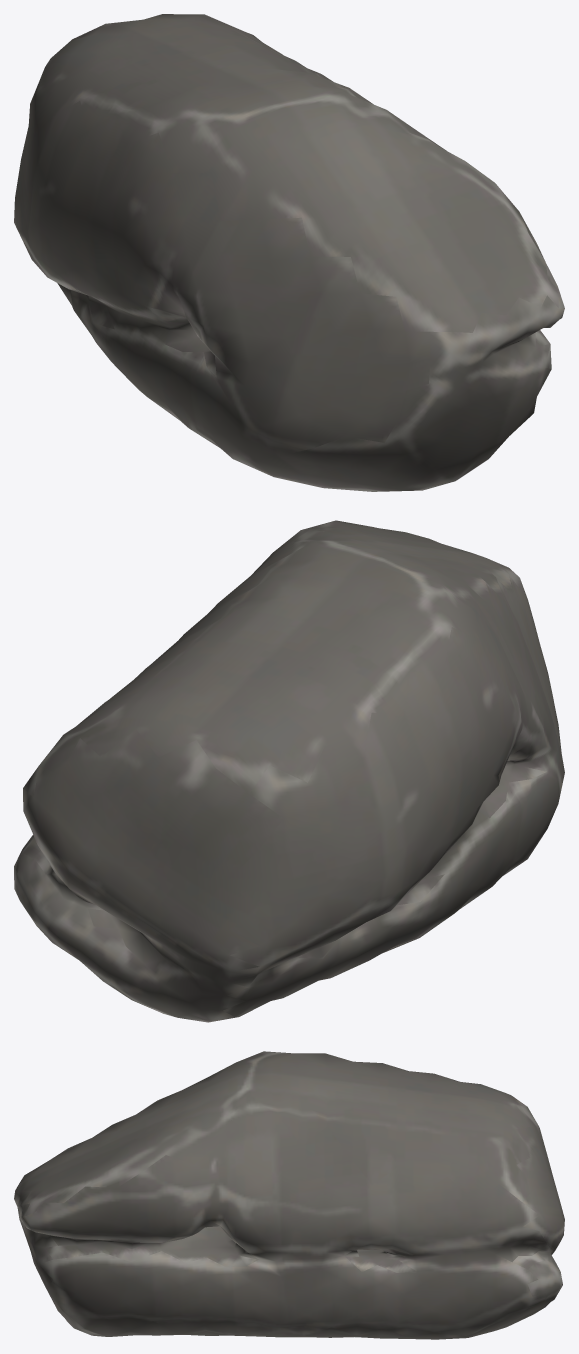
File: SM_rock_small_05.glb
3 views of the same model, one above another, from view 1: azimuth 30°, elevation 25°; view 2: azimuth 150°, elevation 25°; view 3: azimuth 270°, elevation 25° (orthographic). The views are drawn at different scales.
Parts seen in each view (by area): view 1: SM_rock_small_05; view 2: SM_rock_small_05; view 3: SM_rock_small_05.
Part boxes in pixels (bbox=[...]): SM_rock_small_05: bbox=[14, 14, 564, 491]; SM_rock_small_05: bbox=[14, 520, 564, 1022]; SM_rock_small_05: bbox=[14, 1051, 564, 1339].
Size of the model in its own units: 0.6947 by 0.6991 by 1.42.
1 material, 1 textured.
